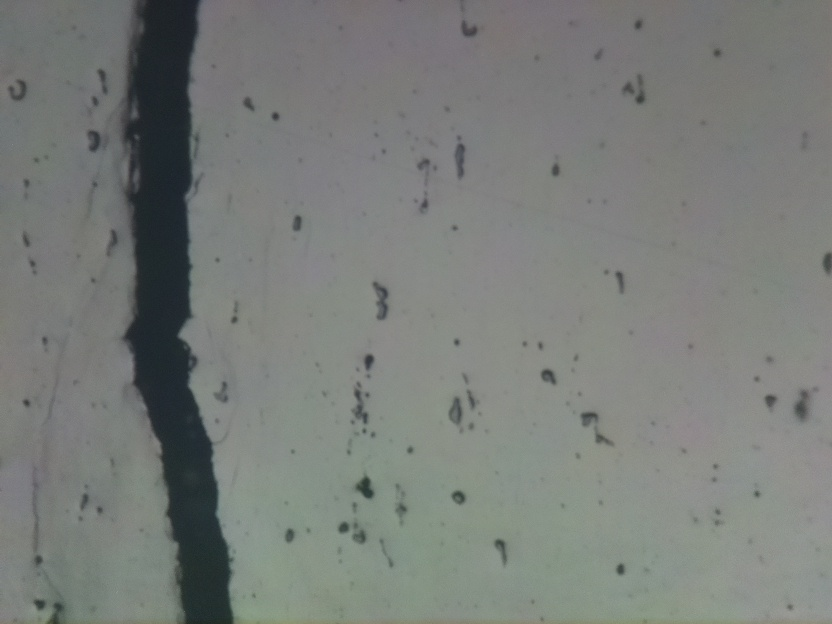crack: (128, 0, 234, 624)
